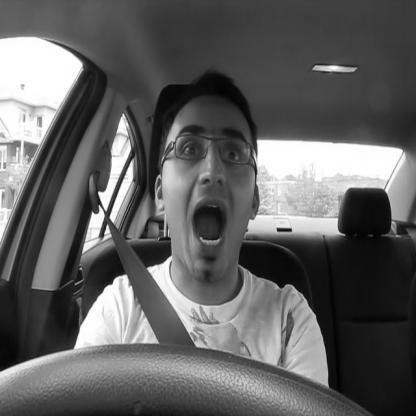seatbelt: (88, 58, 266, 416)
